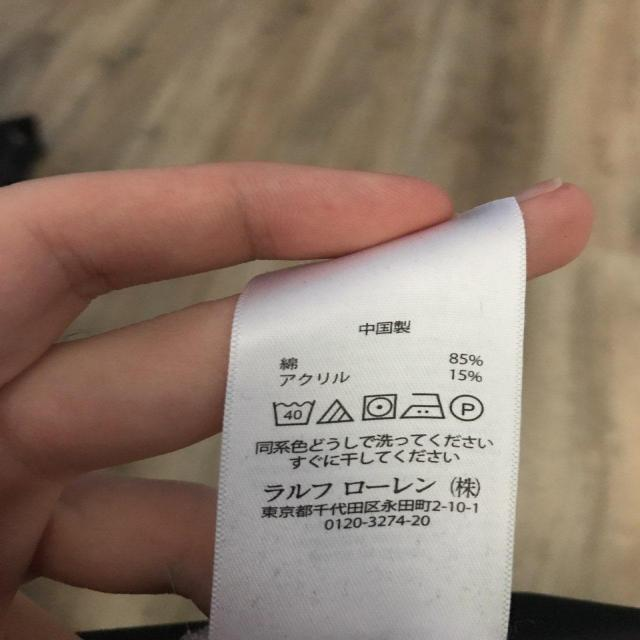40C: (267, 396, 319, 430)
dry_clean_any_solvent_except_trichloroethylene: (449, 393, 486, 421)
iron_medium: (402, 390, 449, 421)
non_chlorine_bleach: (315, 397, 355, 429)
tumble_dry_low: (359, 390, 401, 425)
